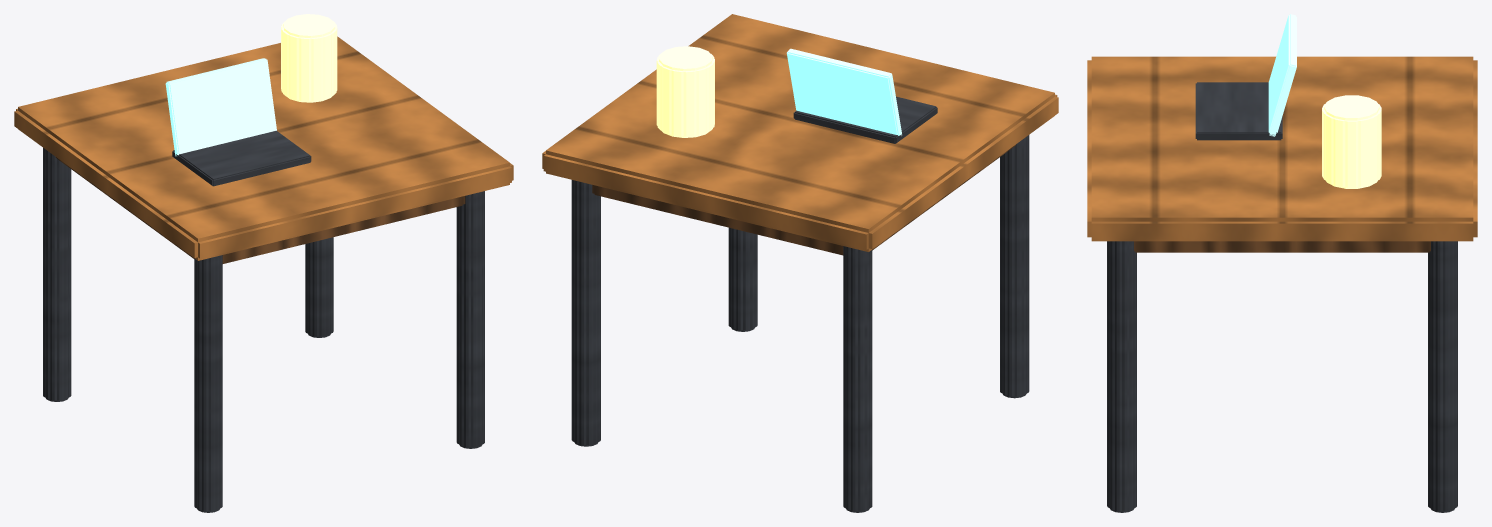
The model's file is furn_table.glb.
3 renders of one model, left to right at view 1: azimuth 30°, elevation 25°; view 2: azimuth 150°, elevation 25°; view 3: azimuth 270°, elevation 25°, orthographic. The views are drawn at different scales.
Visible parts, largest first — view 1: furn_table; view 2: furn_table; view 3: furn_table.
Part boxes in pixels (box(x1,y1,x2,y2)): furn_table: box(14, 14, 513, 512); furn_table: box(542, 14, 1058, 512); furn_table: box(1087, 14, 1477, 512).
Size of the model in its own units: 0.9 by 0.9636 by 0.9.
Materials: 5 (3 with a texture image).
